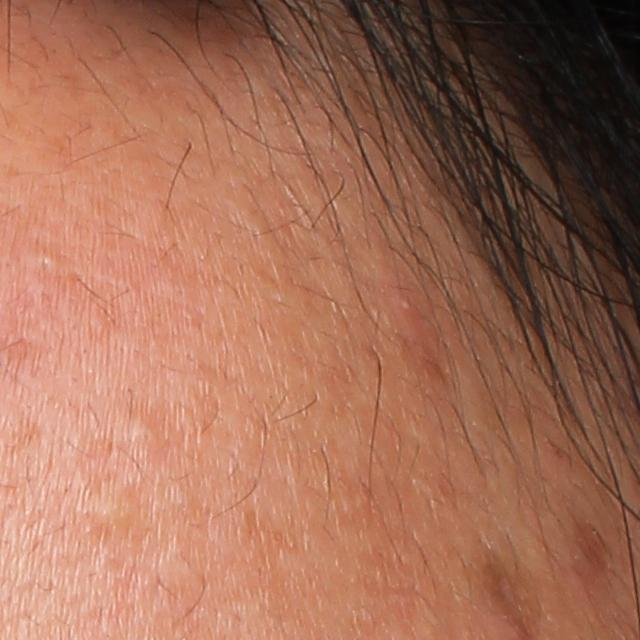comedo: (78, 484, 143, 531)
